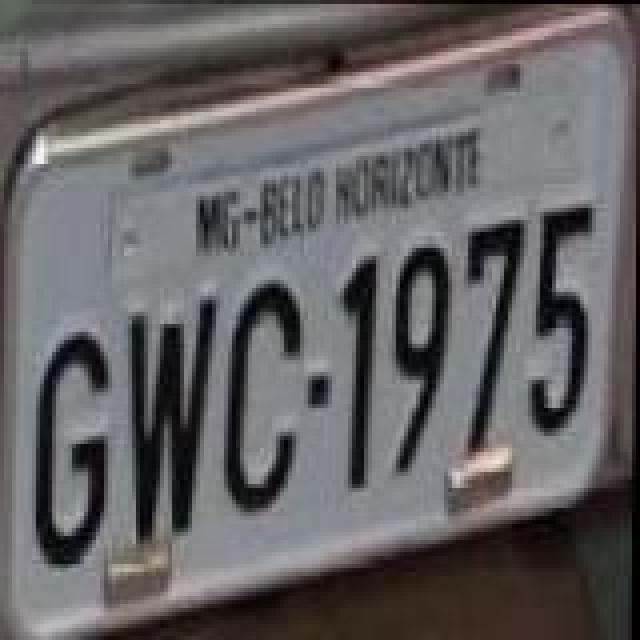1: (340, 250, 380, 490)
5: (530, 204, 598, 436)
7: (462, 214, 522, 454)
9: (388, 238, 452, 470)
C: (224, 278, 304, 518)
G: (34, 328, 114, 568)
W: (126, 302, 218, 550)
